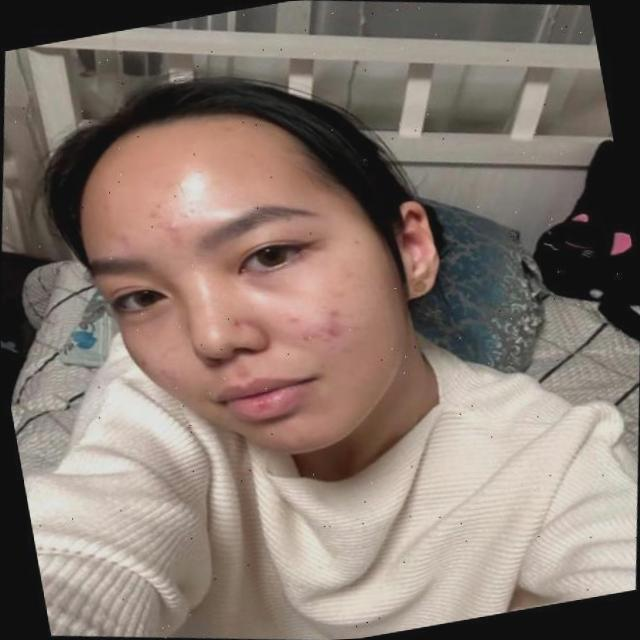nodules: (131, 194, 170, 226), (321, 307, 344, 339), (295, 324, 321, 345), (162, 219, 182, 236), (230, 316, 244, 330), (288, 314, 299, 324), (156, 368, 167, 378)
